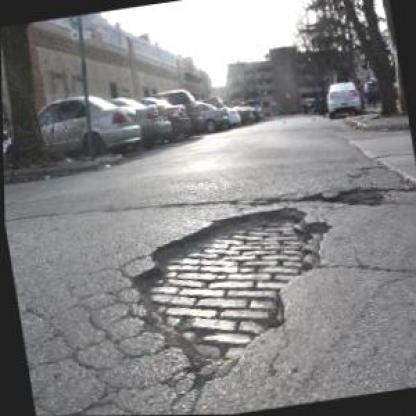pothole: (113, 198, 350, 398), (324, 180, 392, 215)
